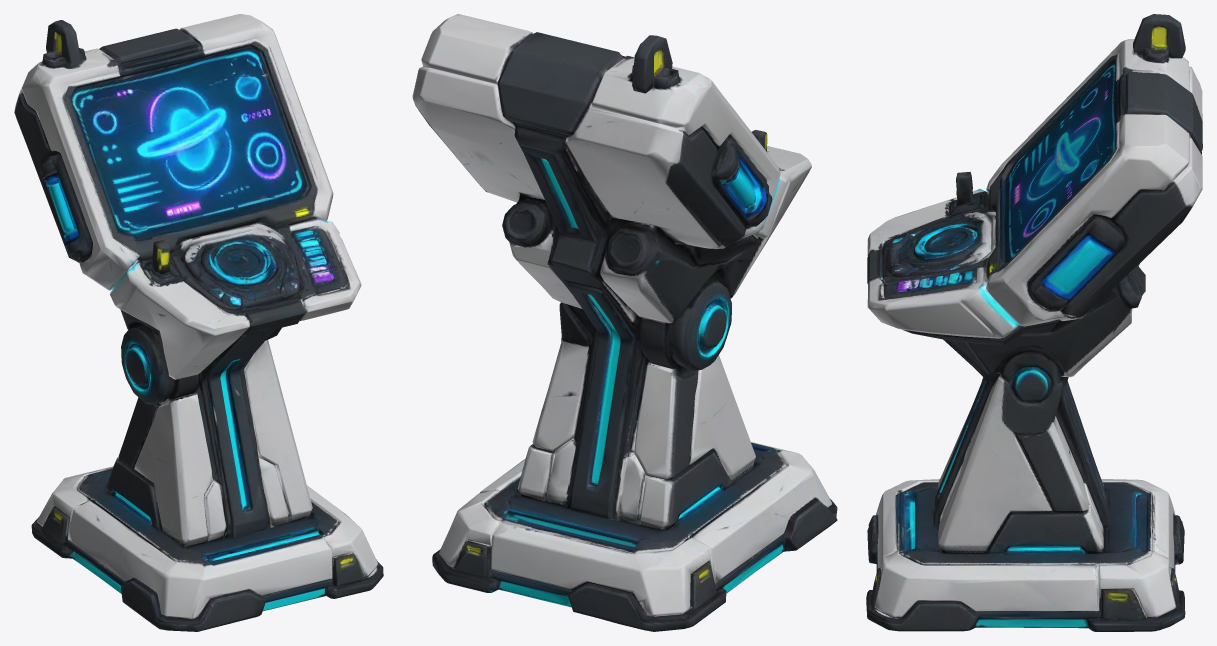
Rendered from model-22-terminal.glb.
The picture shows the model from 3 angles, left to right: view 1: azimuth 30°, elevation 25°; view 2: azimuth 150°, elevation 25°; view 3: azimuth 270°, elevation 25°; orthographic projection. The views are drawn at different scales.
Parts seen in each view (by area): view 1: node_0; view 2: node_0; view 3: node_0.
Part boxes in pixels (x1,y1,x2,y2): node_0: [14, 14, 383, 631]; node_0: [412, 14, 837, 631]; node_0: [866, 14, 1202, 631].
Bounding box in the file's own units: 0.511 × 0.9889 × 0.5797.
1 material, 1 textured.
